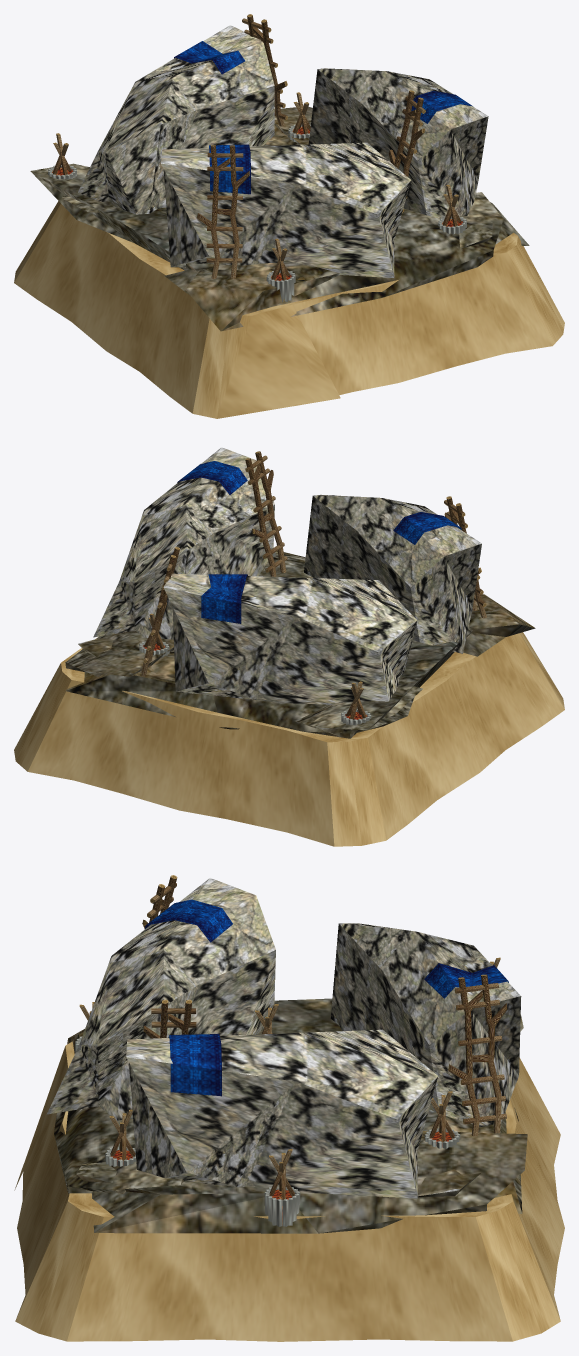
The model's file is temple.dae.
The picture shows the model from 3 angles, top to bottom: view 1: azimuth 30°, elevation 25°; view 2: azimuth 150°, elevation 25°; view 3: azimuth 270°, elevation 25°; orthographic projection. The views are drawn at different scales.
Parts seen in each view (by area): view 1: temple; view 2: temple; view 3: temple.
Boxes of the visible parts, left/top/right/bottom form: temple: left=14, top=14, right=564, bottom=418; temple: left=14, top=447, right=564, bottom=846; temple: left=14, top=875, right=564, bottom=1341.
Size of the model in its own units: 28.94 by 29.6 by 16.42.
